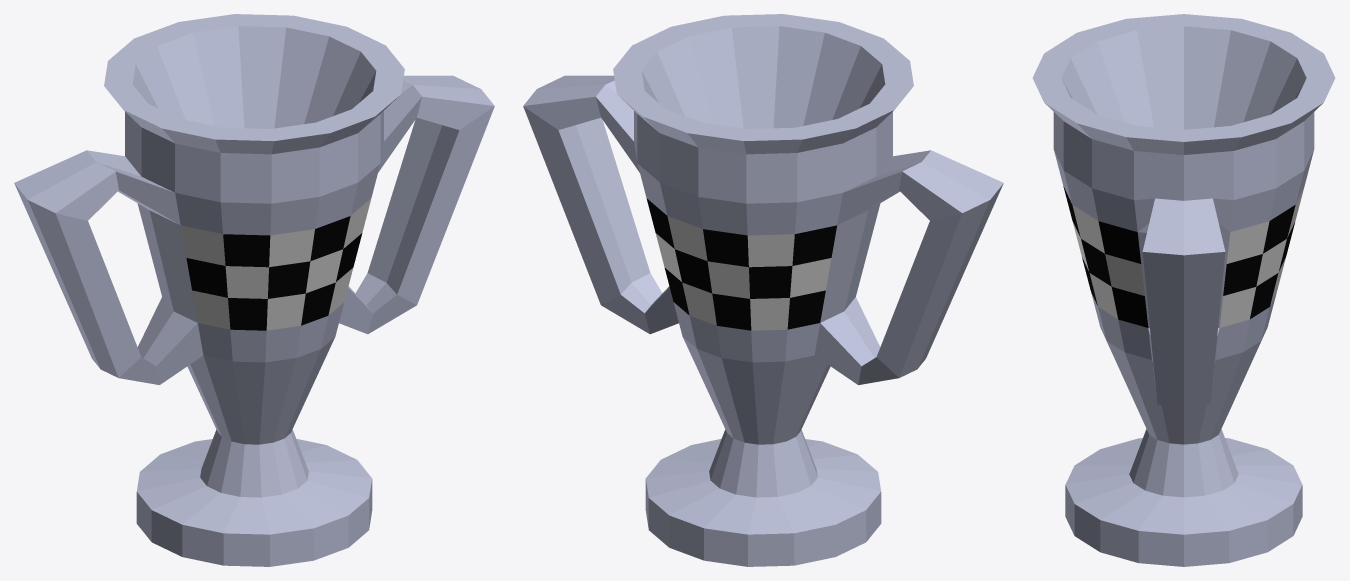
Rendered from cup.fbx.
3 views of the same model, side by side, from view 1: azimuth 30°, elevation 25°; view 2: azimuth 150°, elevation 25°; view 3: azimuth 270°, elevation 25° (orthographic).
Parts seen in each view (by area): view 1: Circle; view 2: Circle; view 3: Circle.
Boxes of the visible parts, x1,y1,x2,y2 form: Circle: (14,14,494,566); Circle: (523,14,1003,566); Circle: (1032,14,1335,566).
Bounding box in the file's own units: 329 × 304 × 190.
